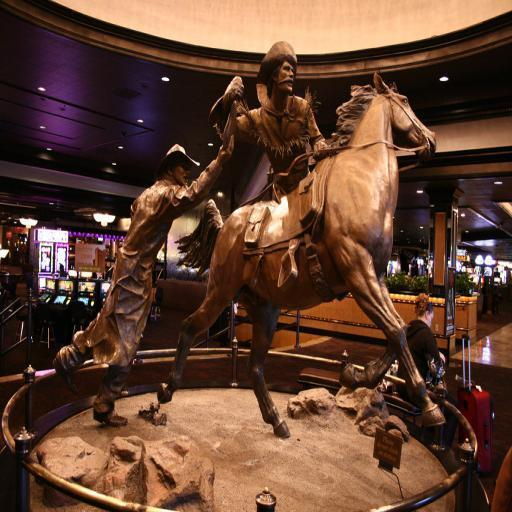horse: (156, 70, 446, 440)
